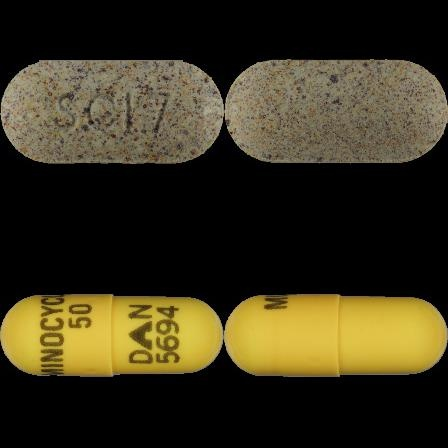50090-0617: (0, 0, 224, 224)
